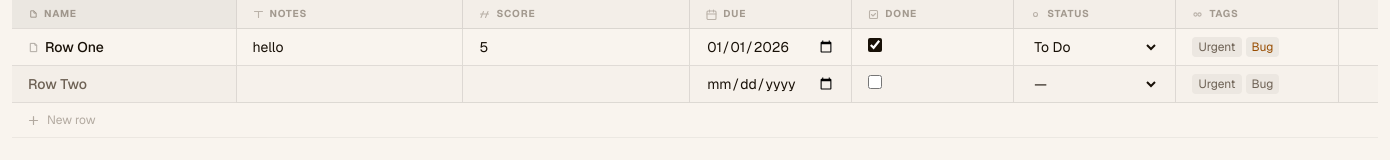
TableView › does not disable an unrelated cell in the same row, or any cell in another row, while a write is pending
Select "Complete" in the dropdown named "Status" in the row of "Row One" at {"x": 1095, "y": 47}, box [1030,37,1159,57]
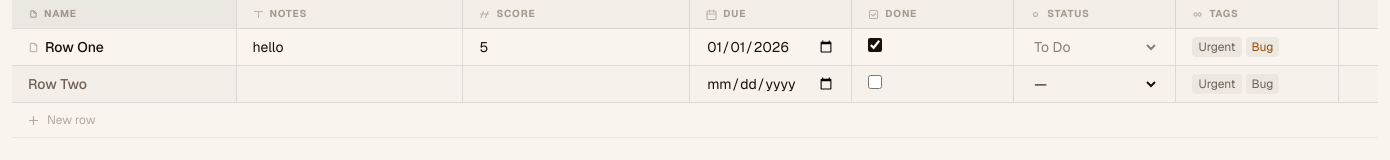
Expected: the button "Urgent" in the row of "Row One" is enabled, [1192,37,1242,57]
Now the dropdown named "Status" in the row of "Row One" is disabled, box [1030,37,1159,57]
